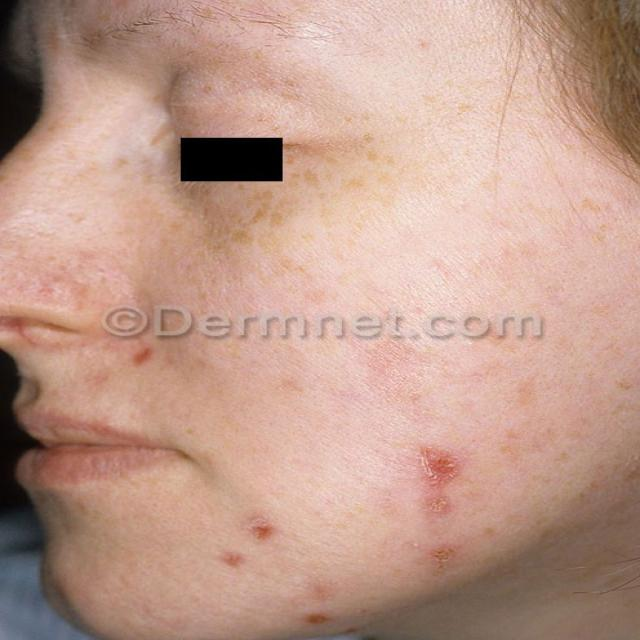Acne: (411, 447, 470, 522), (419, 540, 466, 575), (243, 510, 285, 542), (298, 606, 337, 629), (215, 545, 248, 571), (129, 343, 155, 370)
